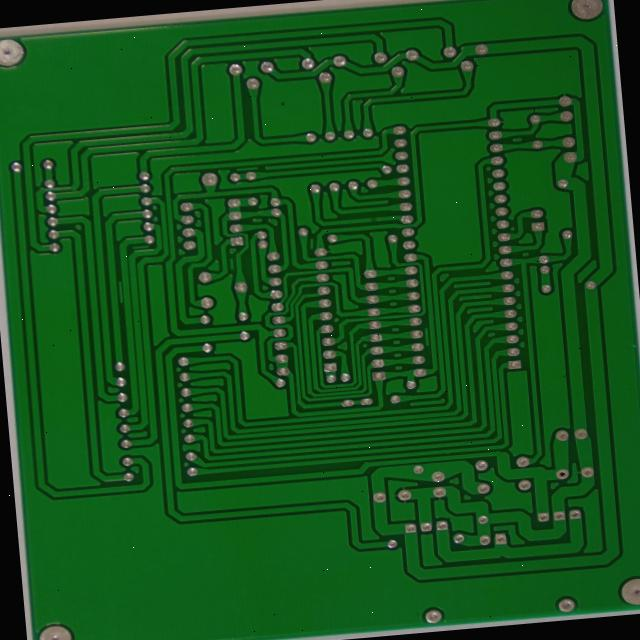spurious_copper: (114, 278, 128, 306), (418, 324, 433, 347), (232, 162, 261, 172), (224, 254, 236, 271), (306, 236, 317, 249)
